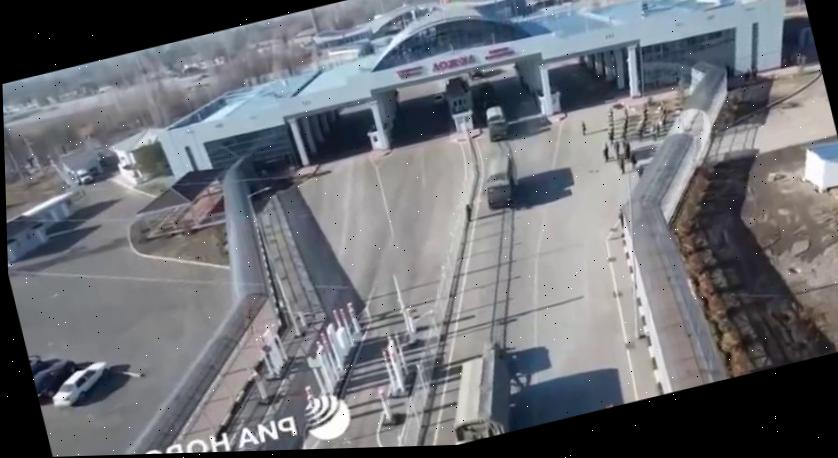car: (46, 360, 115, 410), (31, 358, 81, 403)
person: (596, 142, 613, 167), (462, 203, 477, 226), (617, 154, 630, 176), (634, 125, 647, 144), (614, 206, 627, 225), (578, 120, 590, 139), (626, 148, 638, 166), (635, 164, 646, 176)
truck: (434, 344, 531, 445), (478, 154, 523, 213), (482, 104, 511, 144)
